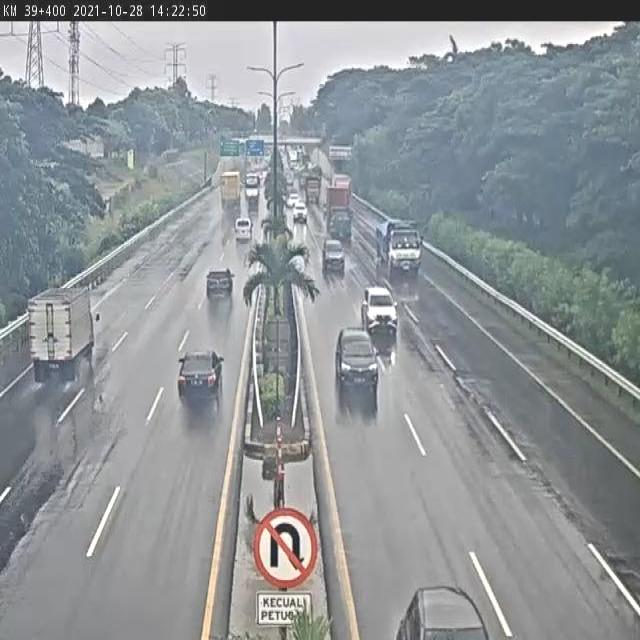Car: (394, 585, 492, 639), (335, 326, 384, 399), (177, 349, 225, 412), (360, 284, 398, 338), (206, 268, 236, 302), (322, 238, 346, 276), (234, 218, 253, 242), (293, 201, 307, 223)
Truck: (28, 282, 98, 376), (371, 216, 428, 281)
